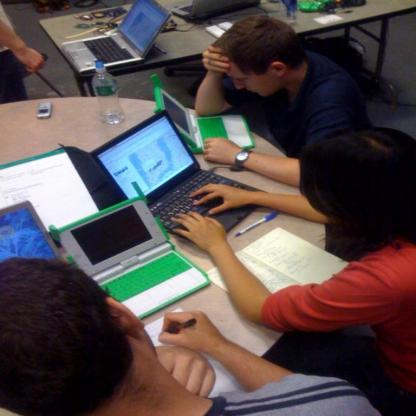board: (92, 110, 269, 243), (48, 180, 210, 320), (43, 2, 179, 66), (152, 73, 256, 154), (0, 199, 66, 267), (92, 61, 124, 129), (169, 0, 260, 22)
